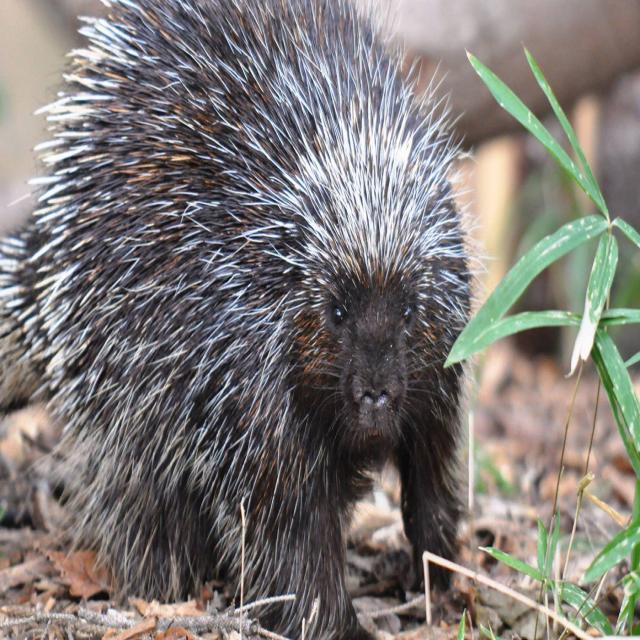Porcupine: (18, 1, 470, 634)
